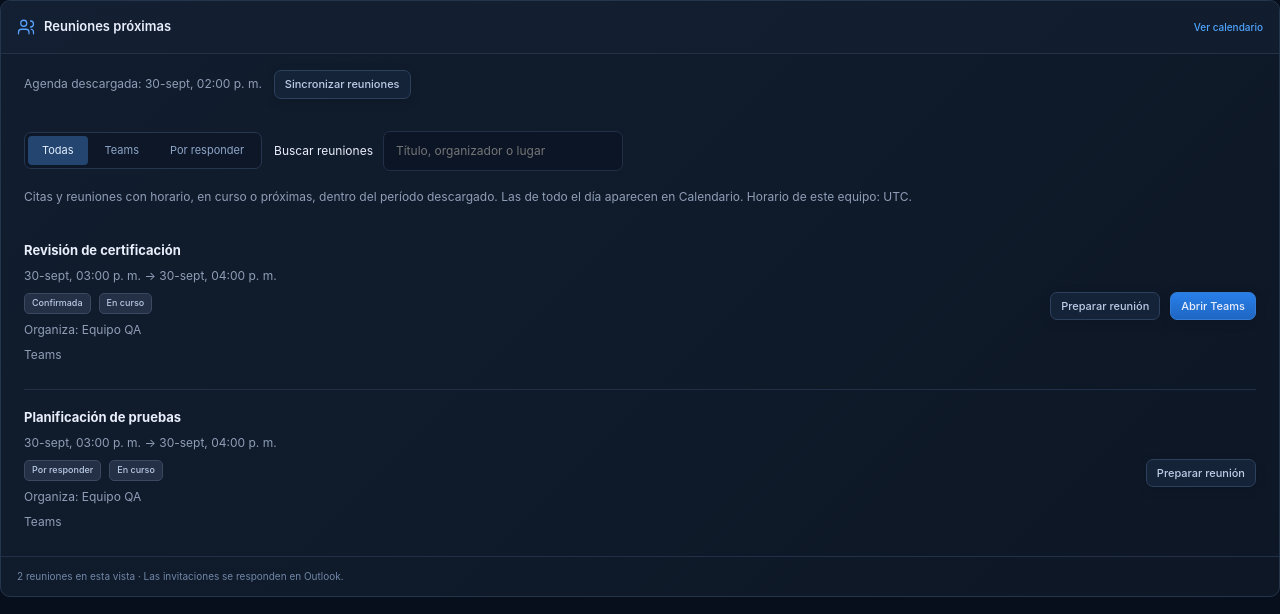
Test: filtra reuniones pendientes y Teams, busca y muestra reuniones en curso
This screenshot has width=1280, height=614.
Expected: the text "Revisión de certificación" is shown, [24, 242, 181, 258]
Expected: the text "En curso" is shown 2 times, [98, 293, 152, 314]; [109, 460, 163, 481]
Click the button "Por responder" at [207, 151], box [156, 136, 258, 165]
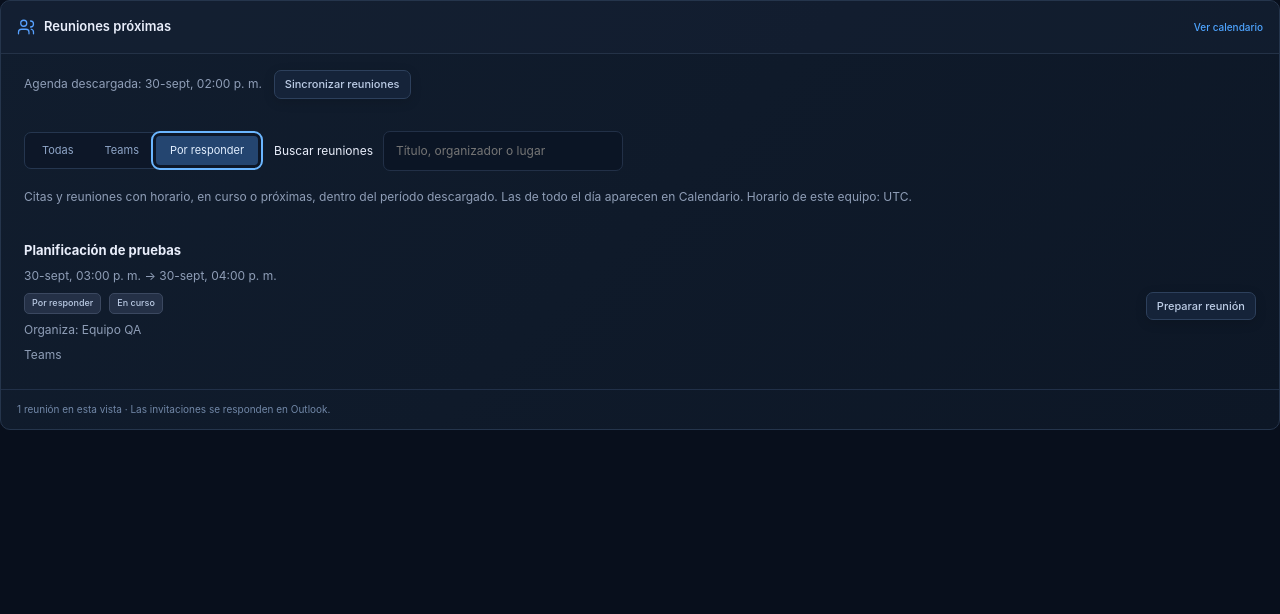
Expected: the text "Planificación de pruebas" is shown, [24, 242, 181, 258]
Now the text "Revisión de certificación" is gone
Click the button "Teams" at [122, 151], box [91, 136, 153, 165]
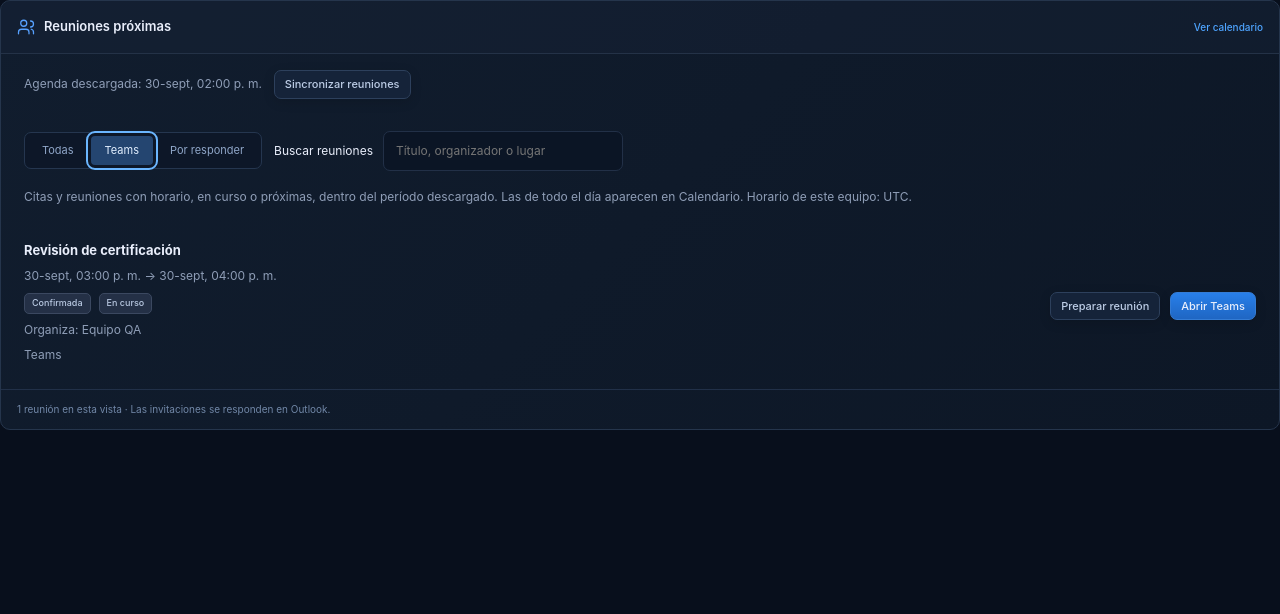
Now the text "Planificación de pruebas" is gone
Type "sin coincidencias" into the search field labelled "Buscar reuniones" at [503, 150], box [383, 130, 623, 170]
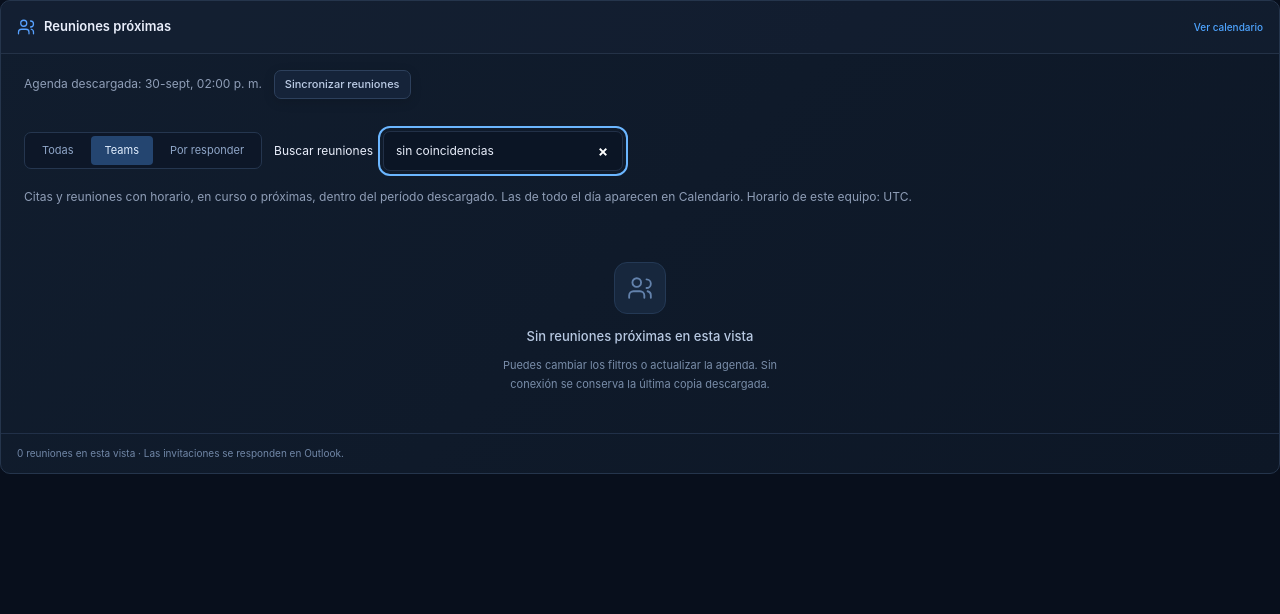
Now the text "Sin reuniones próximas en esta vista" is shown, box [526, 327, 753, 346]
